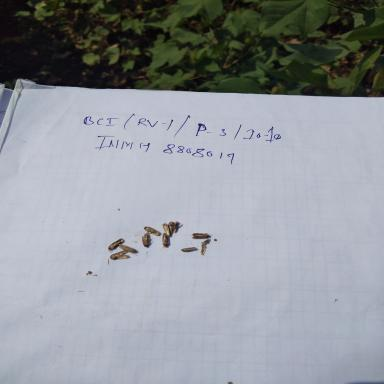pbw: (118, 242, 142, 255), (106, 237, 125, 253), (108, 250, 135, 260), (136, 232, 154, 246), (160, 220, 174, 238), (190, 230, 212, 241), (158, 231, 172, 247), (144, 225, 163, 236), (179, 245, 199, 252), (171, 218, 181, 232), (199, 238, 213, 248), (168, 220, 176, 236), (199, 246, 208, 256)
